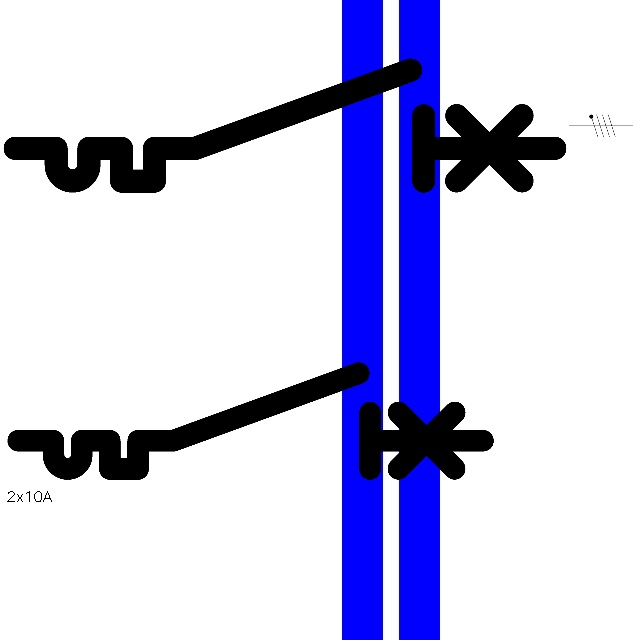interruptor_termomagnetico: (1, 56, 568, 195), (6, 361, 495, 481)
